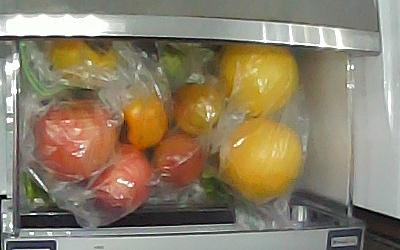apple_vinyl: (31, 91, 118, 181), (87, 144, 152, 214)
grapefruit_vinyl: (218, 117, 304, 204), (219, 47, 299, 116)
persimmon_vinyl: (49, 38, 118, 83), (123, 94, 167, 147)
prune_vinyl: (154, 129, 205, 188), (171, 82, 223, 133)
